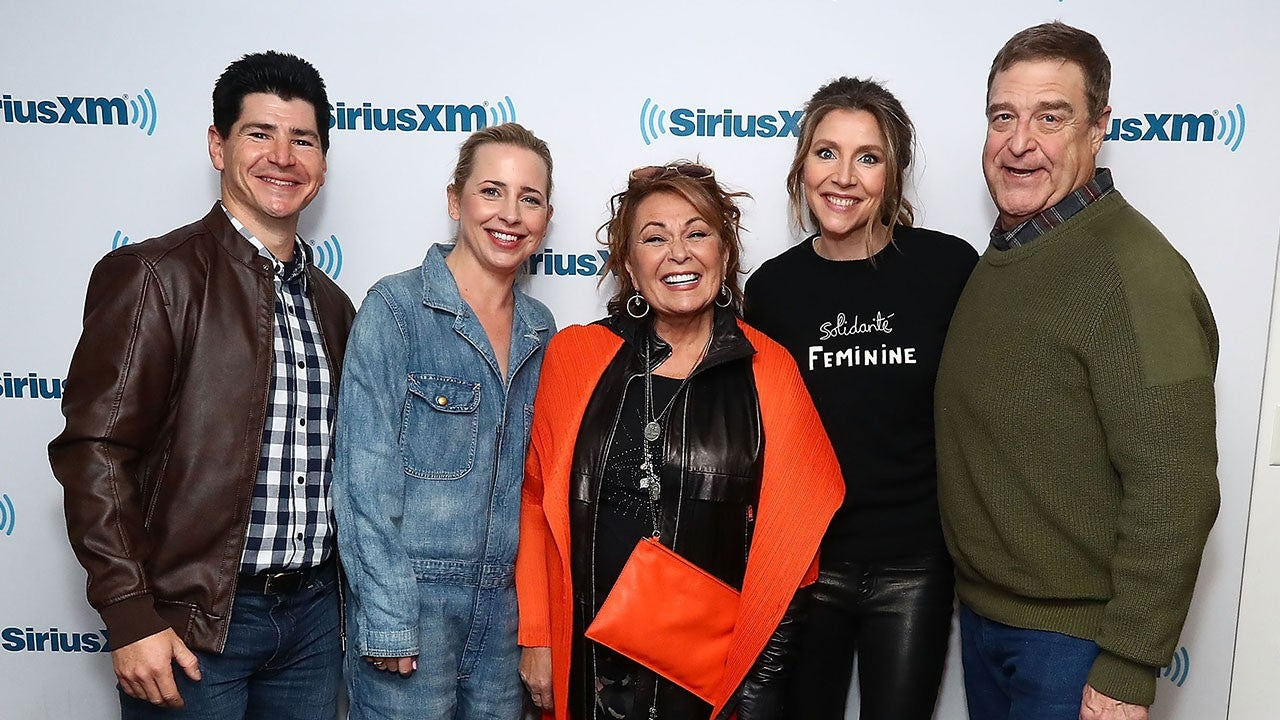bad: (975, 92, 1083, 199), (802, 136, 892, 226), (235, 116, 325, 206), (633, 216, 723, 305), (464, 166, 554, 255)
